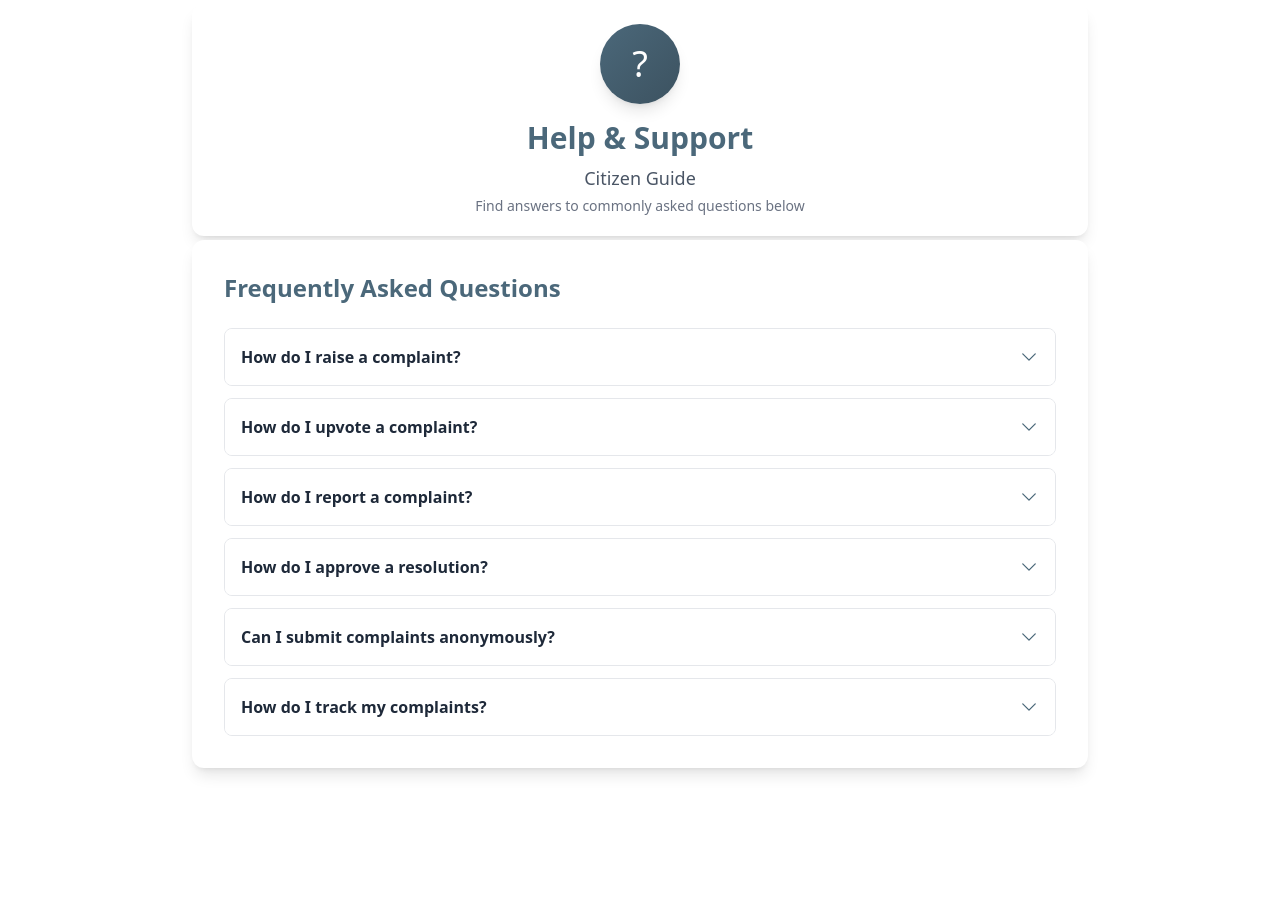
Help Component - Complete Coverage › FAQ Content Verification › should display complete answer for anonymous submission FAQ
The width and height of the screenshot is (1280, 900).
Click the button "Can I submit complaints anonymously?" at (398, 637), box [225,609,1055,665]
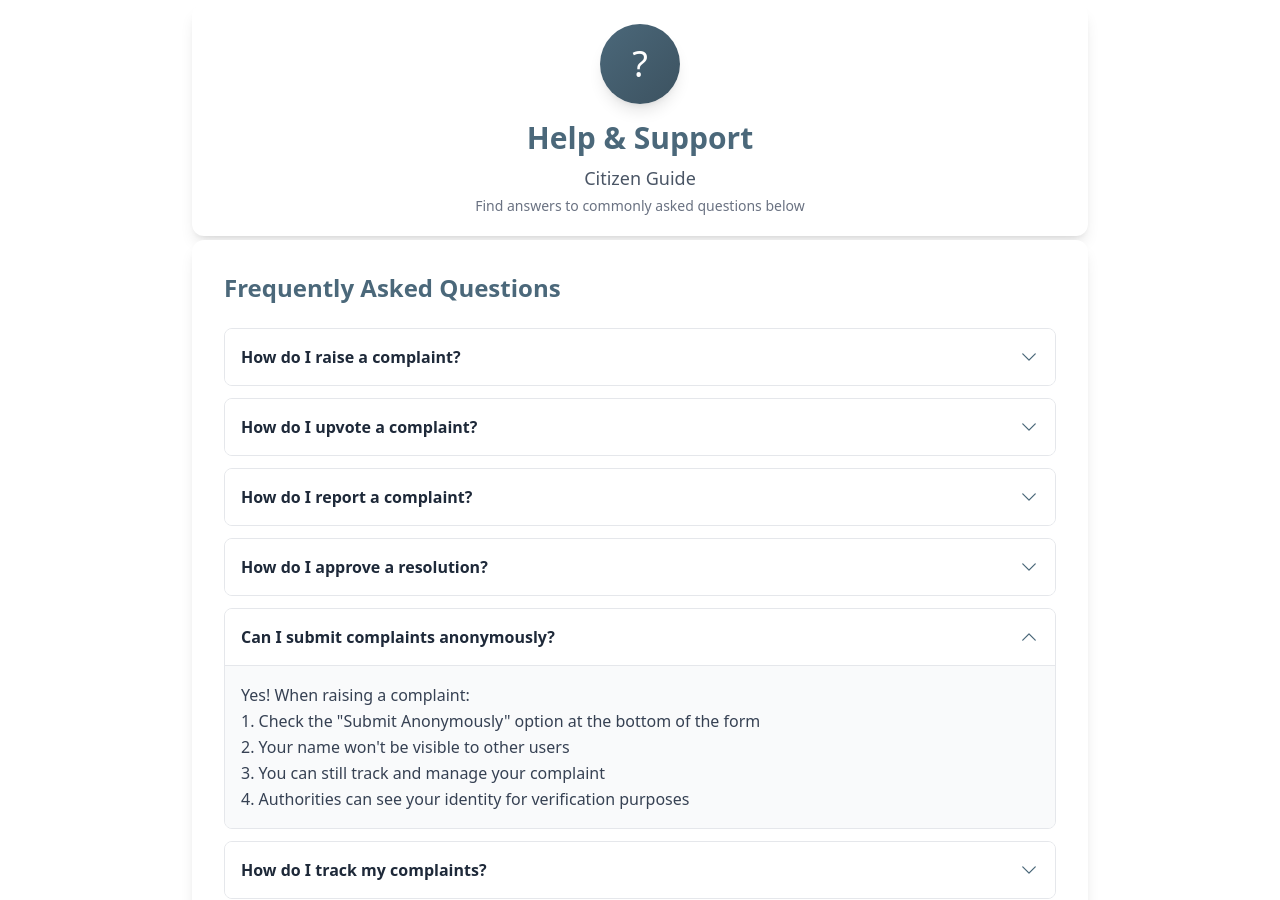
Check: the text "Check the \"Submit Anonymously\" option" is shown, box [241,684,760,810]
